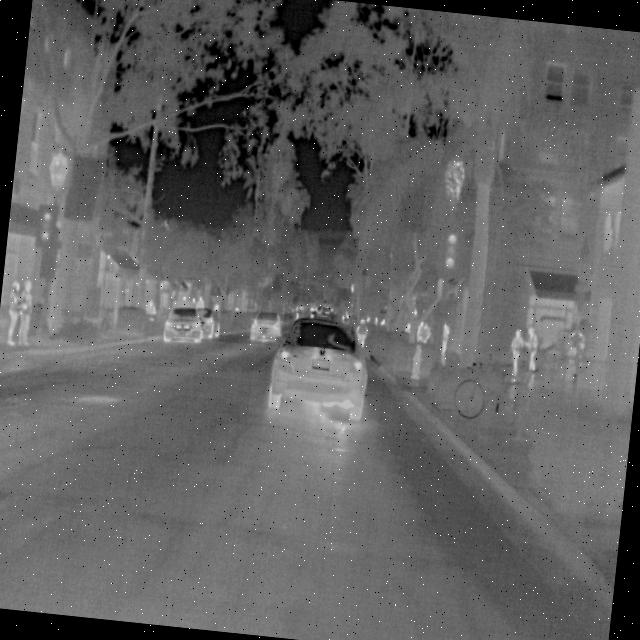Pedestrian: (13, 278, 38, 349), (1, 279, 22, 348), (504, 324, 526, 378), (520, 322, 543, 372), (352, 316, 370, 351)
Vehicle: (264, 307, 376, 423), (160, 300, 206, 346), (248, 309, 284, 345)
